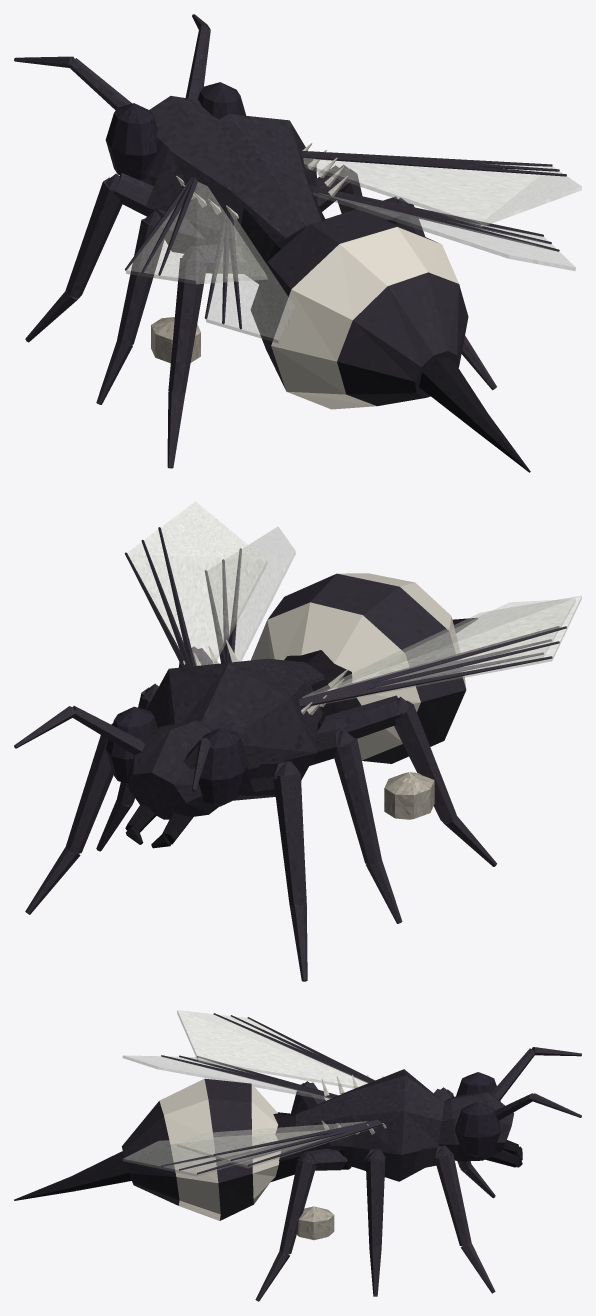
Rendered from mon_bee_mega.glb.
The picture shows the model from 3 angles, top to bottom: view 1: azimuth 30°, elevation 25°; view 2: azimuth 150°, elevation 25°; view 3: azimuth 270°, elevation 25°; orthographic projection. The views are drawn at different scales.
Visible parts, largest first — view 1: closed_body, glazing; view 2: closed_body, glazing; view 3: closed_body, glazing.
Part boxes in pixels (x1,y1,x2,y2): closed_body: [14, 14, 566, 472]; glazing: [126, 158, 581, 343]; closed_body: [14, 527, 566, 981]; glazing: [127, 501, 581, 707]; closed_body: [14, 1013, 581, 1301]; glazing: [122, 1010, 377, 1176].
Bounding box in the file's own units: 2.78 × 1.53 × 4.5.
2 materials, 2 textured.
